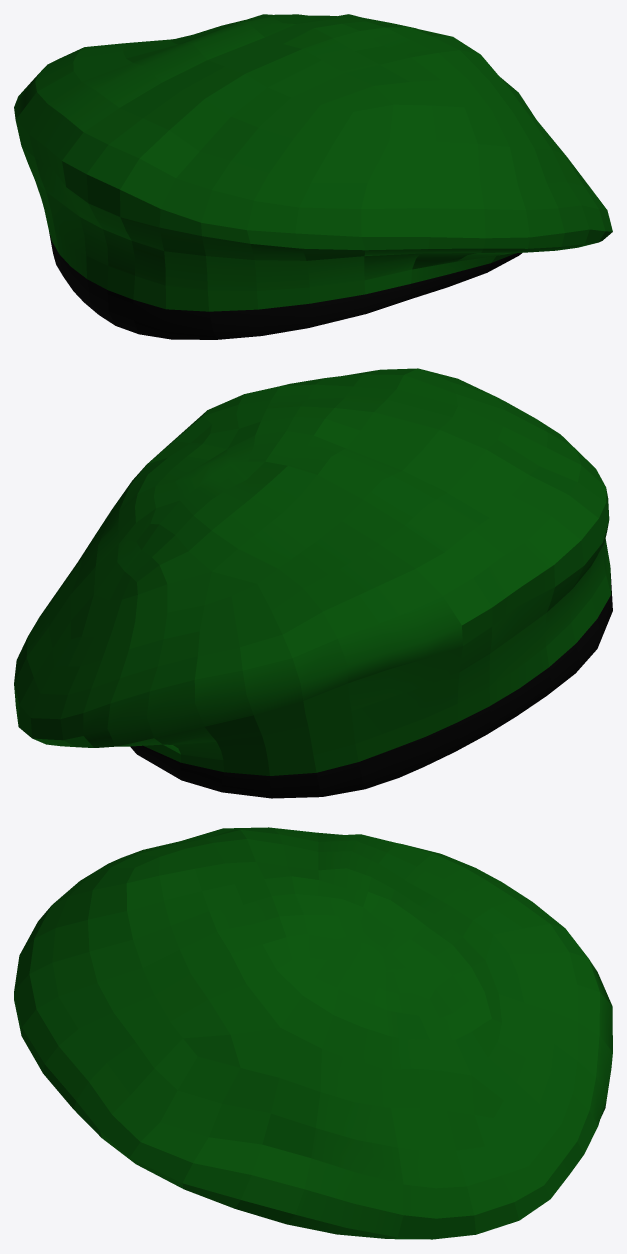
The model's file is BerretGirl.fbx.
3 renders of one model, top to bottom at view 1: azimuth 30°, elevation 25°; view 2: azimuth 150°, elevation 25°; view 3: azimuth 270°, elevation 25°, orthographic. The views are drawn at different scales.
Visible parts, largest first — view 1: Beret; view 2: Beret; view 3: Beret.
Boxes of the visible parts, x1=… form: Beret: x1=14, y1=14, x2=612, y2=339; Beret: x1=14, y1=368, x2=612, y2=798; Beret: x1=14, y1=827, x2=612, y2=1239.
Size of the model in its own units: 67.88 by 36.76 by 75.54.
1 material, 1 textured.
